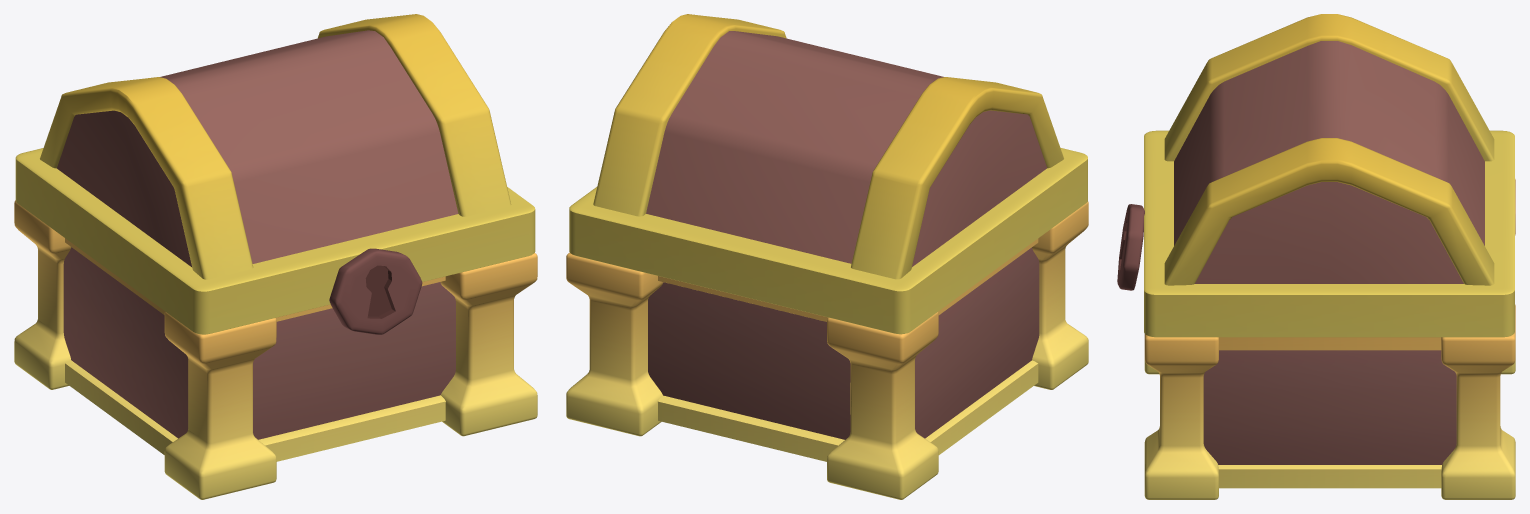
Rendered from Chest.fbx.
3 views of the same model, side by side, from view 1: azimuth 30°, elevation 25°; view 2: azimuth 150°, elevation 25°; view 3: azimuth 270°, elevation 25° (orthographic).
Parts seen in each view (by area): view 1: Upper, Down; view 2: Upper, Down; view 3: Upper, Down.
Part boxes in pixels (bbox=[...]): Upper: bbox=[15, 14, 535, 334]; Down: bbox=[14, 200, 537, 499]; Upper: bbox=[569, 14, 1087, 334]; Down: bbox=[566, 201, 1088, 499]; Upper: bbox=[1117, 14, 1514, 337]; Down: bbox=[1144, 179, 1515, 499].
Bounding box in the file's own units: 2.13 × 2.01 × 2.19.
